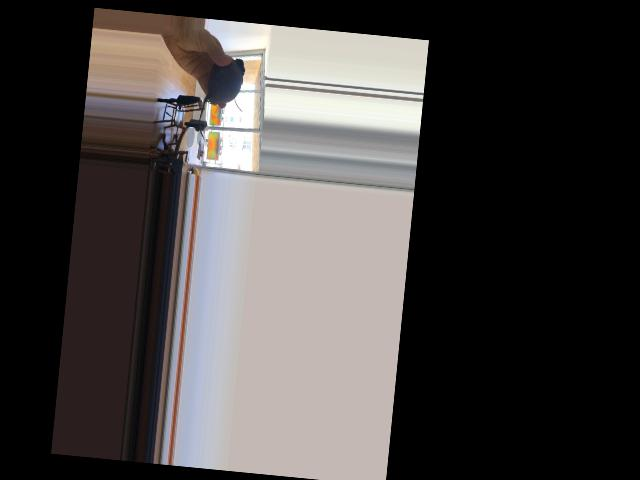beet: (197, 55, 246, 142)
